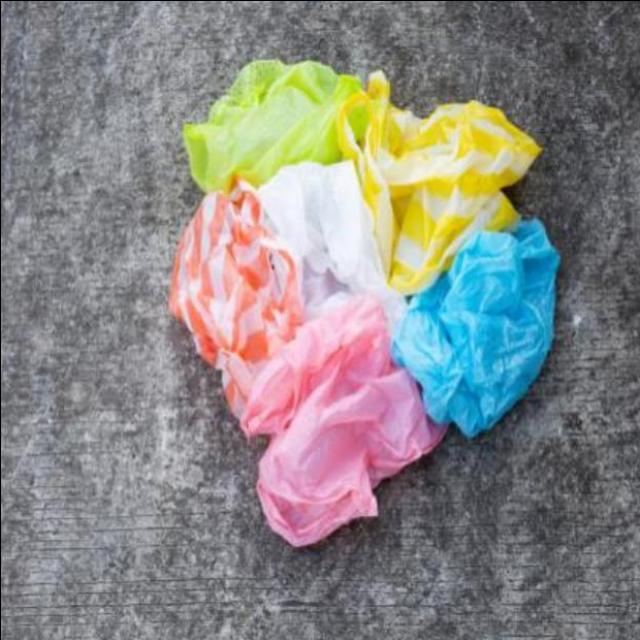plastik: (239, 294, 445, 545), (337, 72, 540, 293), (393, 218, 559, 437), (168, 182, 303, 413), (256, 160, 404, 327), (182, 59, 360, 190)
